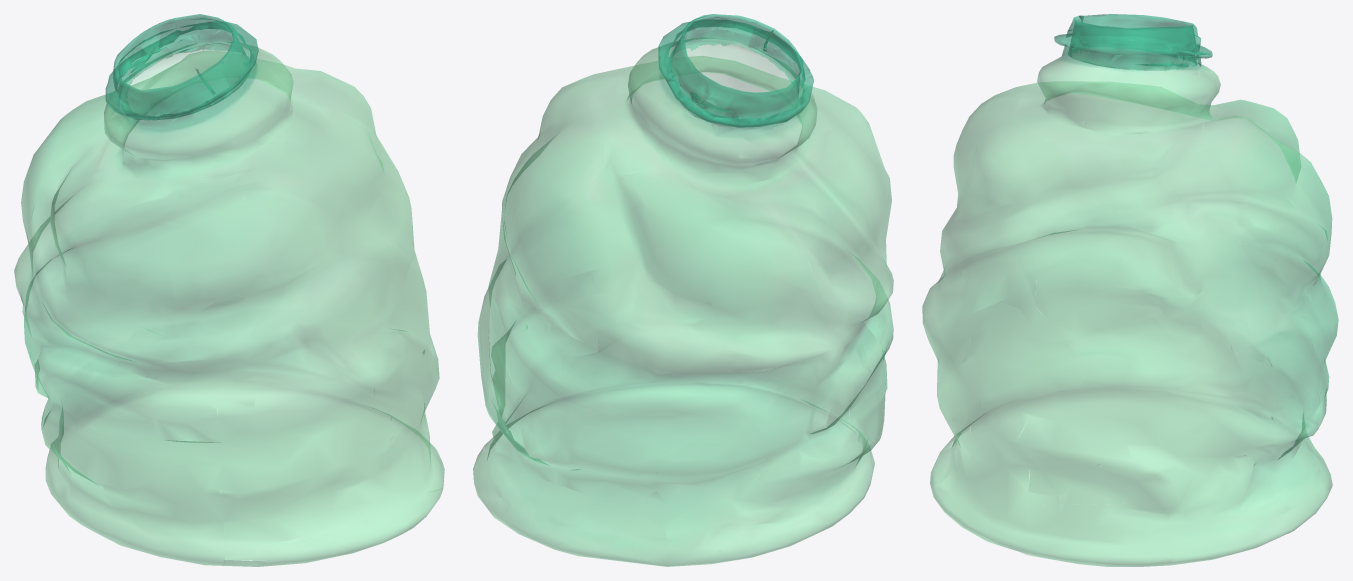
The model's file is 07_8_nj_et_gre_s_trs-opt-v42.glb.
3 views of the same model, side by side, from view 1: azimuth 30°, elevation 25°; view 2: azimuth 150°, elevation 25°; view 3: azimuth 270°, elevation 25° (orthographic). The views are drawn at different scales.
Visible parts, largest first — view 1: yeşil.003; view 2: yeşil.003; view 3: yeşil.003.
Part boxes in pixels (<box>): yeşil.003: <box>14,14,444,566</box>; yeşil.003: <box>473,14,893,566</box>; yeşil.003: <box>922,14,1338,566</box>.
Bounding box in the file's own units: 0.1543 × 0.19 × 0.1546.
1 material, 1 textured.
